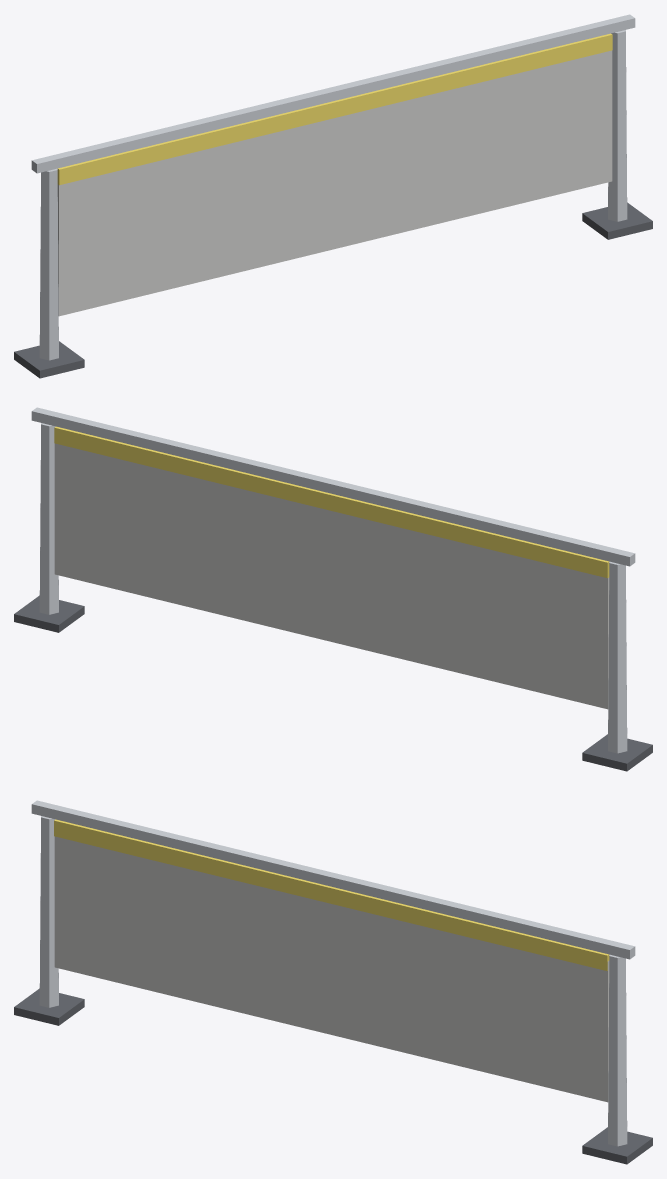
File: velodrome-and-track-cycling-banner-rail-run-4a15542b.glb
3 views of the same model, one above another, from view 1: azimuth 30°, elevation 25°; view 2: azimuth 150°, elevation 25°; view 3: azimuth 330°, elevation 25° (orthographic).
Visible parts, largest first — view 1: banner-rail-run-chalk, banner-rail-run-steel, banner-rail-run-canary, banner-rail-run-charcoal; view 2: banner-rail-run-chalk, banner-rail-run-steel, banner-rail-run-canary, banner-rail-run-charcoal; view 3: banner-rail-run-chalk, banner-rail-run-steel, banner-rail-run-canary, banner-rail-run-charcoal.
Part boxes in pixels (x1,y1,x2,y2): banner-rail-run-chalk: [57, 50, 612, 316]; banner-rail-run-steel: [31, 14, 635, 360]; banner-rail-run-canary: [57, 33, 612, 185]; banner-rail-run-charcoal: [14, 202, 652, 378]; banner-rail-run-chalk: [54, 443, 609, 709]; banner-rail-run-steel: [31, 407, 635, 753]; banner-rail-run-canary: [54, 426, 609, 578]; banner-rail-run-charcoal: [14, 595, 652, 771]; banner-rail-run-chalk: [54, 836, 609, 1102]; banner-rail-run-steel: [31, 800, 635, 1146]; banner-rail-run-canary: [54, 819, 609, 970]; banner-rail-run-charcoal: [14, 988, 652, 1164].
Size of the model in its own units: 4.1 by 1.31 by 0.2998.
